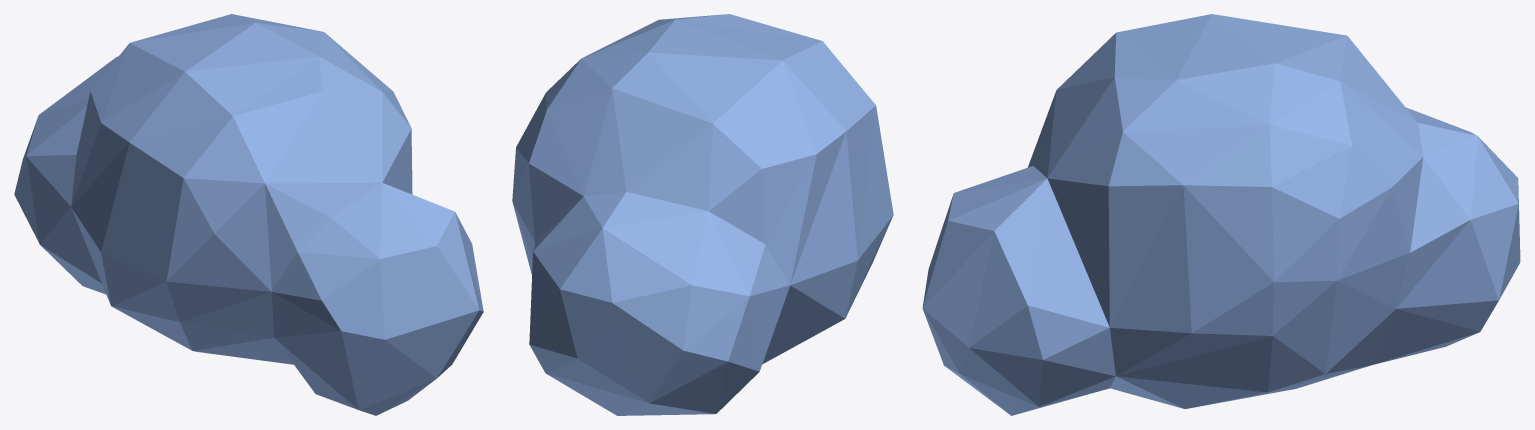
Rendered from cloud5.gltf.
The picture shows the model from 3 angles, left to right: view 1: azimuth 30°, elevation 25°; view 2: azimuth 150°, elevation 25°; view 3: azimuth 270°, elevation 25°; orthographic projection. The views are drawn at different scales.
Parts seen in each view (by area): view 1: cloud5_geo.; view 2: cloud5_geo.; view 3: cloud5_geo..
Part boxes in pixels (bbox=[...]): cloud5_geo.: bbox=[14, 14, 483, 415]; cloud5_geo.: bbox=[512, 14, 893, 415]; cloud5_geo.: bbox=[922, 14, 1520, 415].
Bounding box in the file's own units: 1.61 × 1.61 × 2.58.
